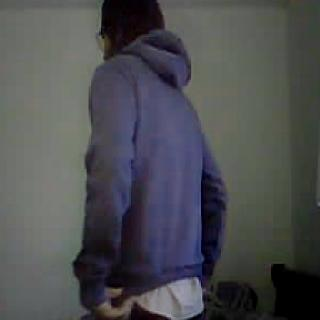Blue Hoodie: (83, 44, 225, 293)
Navy Sweatpants: (83, 309, 206, 320)
